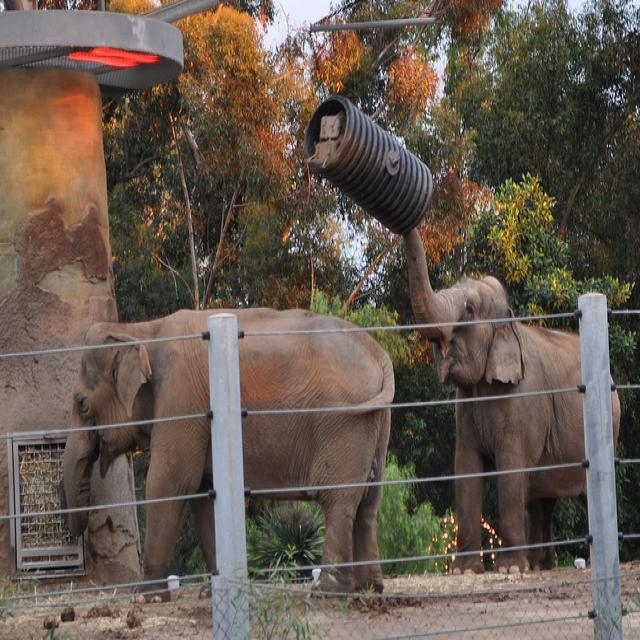Elephant: (58, 305, 395, 602), (401, 223, 621, 574)
